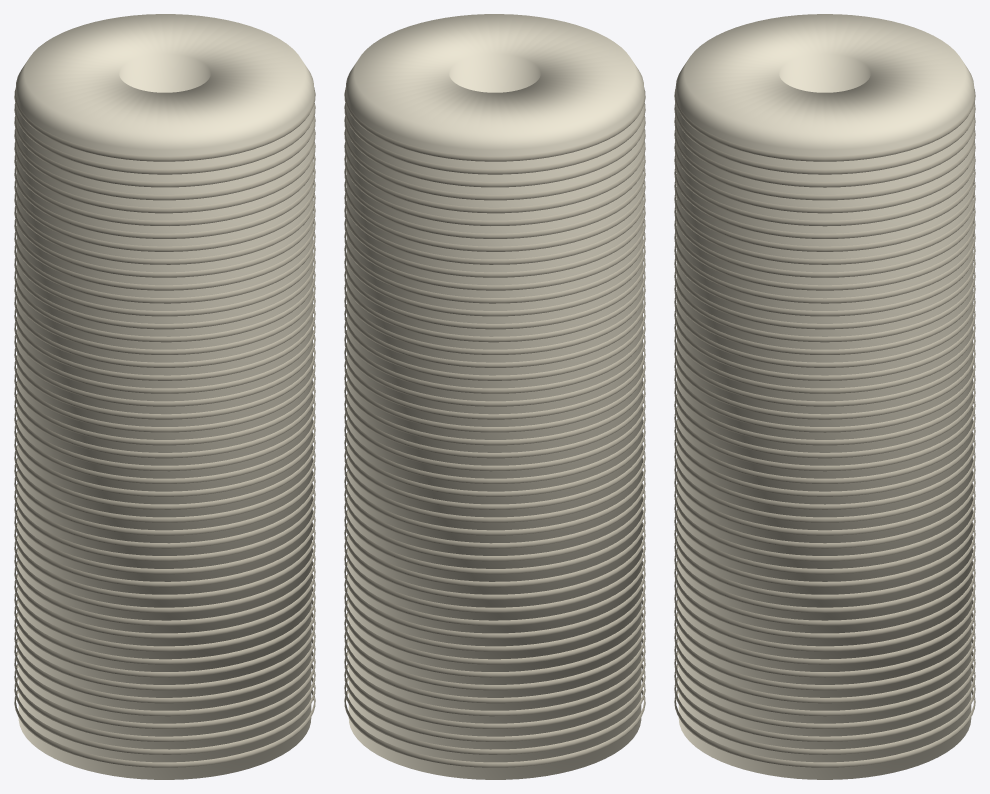
The model's file is paper-towel.glb.
3 views of the same model, side by side, from view 1: azimuth 30°, elevation 25°; view 2: azimuth 150°, elevation 25°; view 3: azimuth 270°, elevation 25° (orthographic).
Parts seen in each view (by area): view 1: paper-towel; view 2: paper-towel; view 3: paper-towel.
Boxes of the visible parts, x1,y1,x2,y2 form: paper-towel: (14,14,315,779); paper-towel: (344,14,645,779); paper-towel: (674,14,975,779).
Size of the model in its own units: 0.105 by 0.2479 by 0.105.
